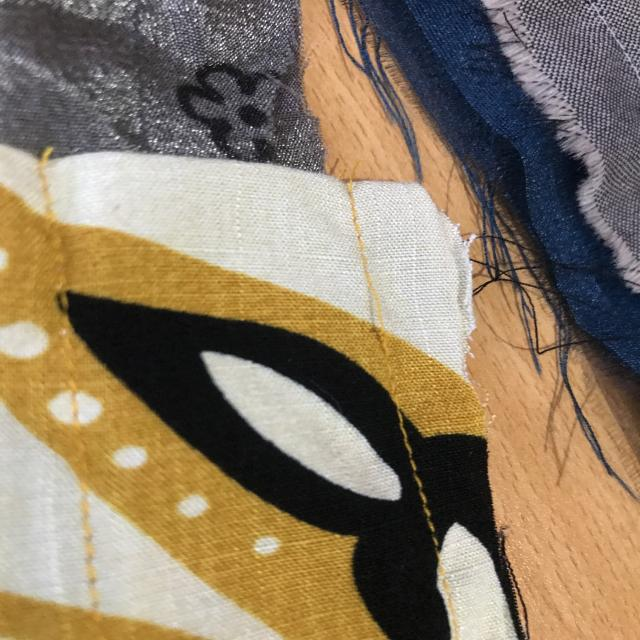skip: (346, 275, 411, 365)
